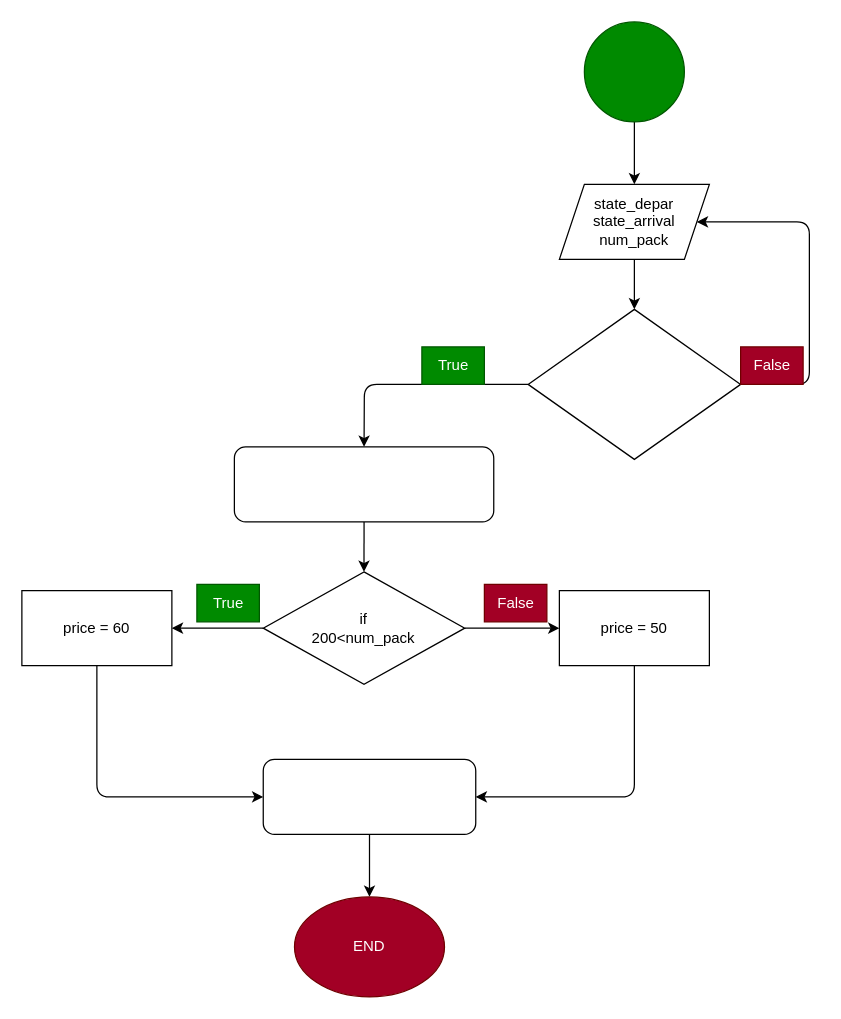
Some shapes in this 841 by 1019 pixel diagram are drawn without their labels. The shapes that lost their labels are listed below. From the top down, each one's box as (x1, y1, x2, y2) in pixels, then its label:
(583, 21, 684, 122): Start
(527, 308, 741, 459): if 100<num_pack<500
(233, 446, 494, 522): distance = calculate_distances(state_depar, state_arrival)
(262, 758, 476, 834): final_price = price*distance print(final_price)
